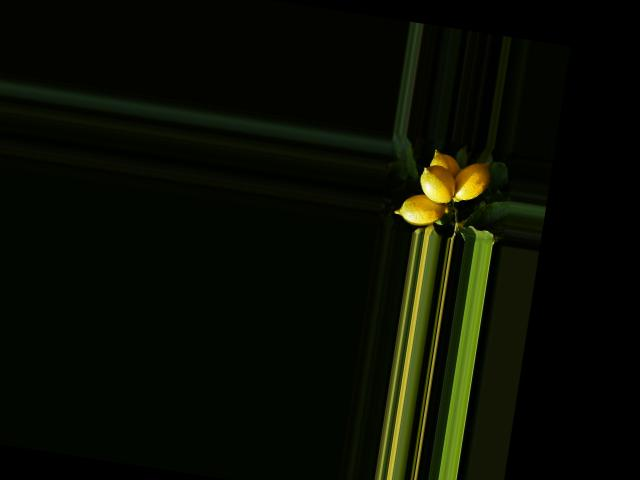lemon: (419, 141, 467, 192)
